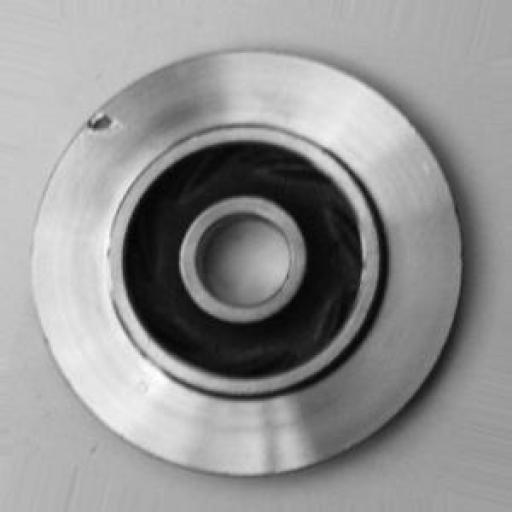defect: (60, 88, 152, 172)
